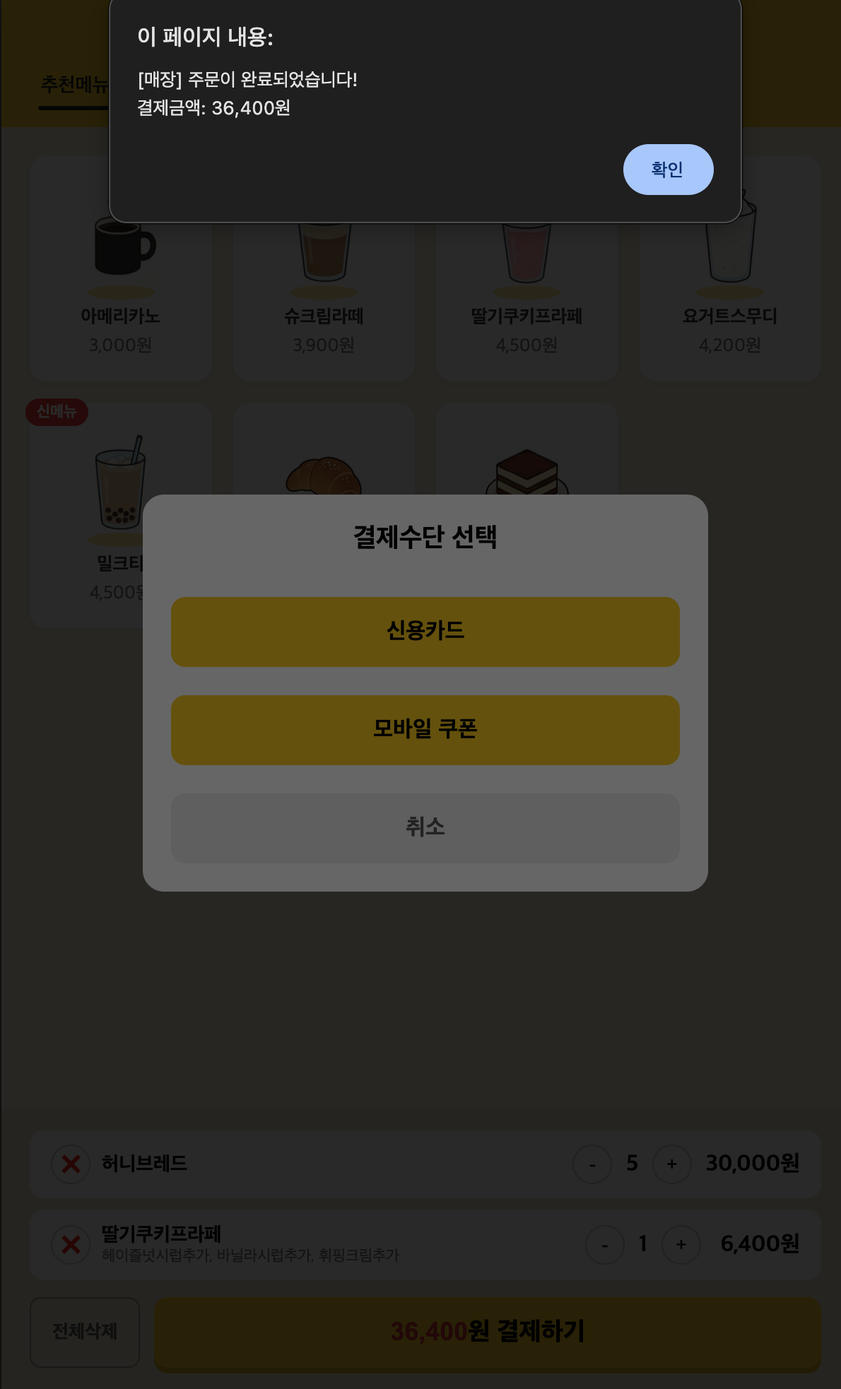action_button: (623, 144, 714, 195)
popup_modal: (108, 2, 743, 224)
